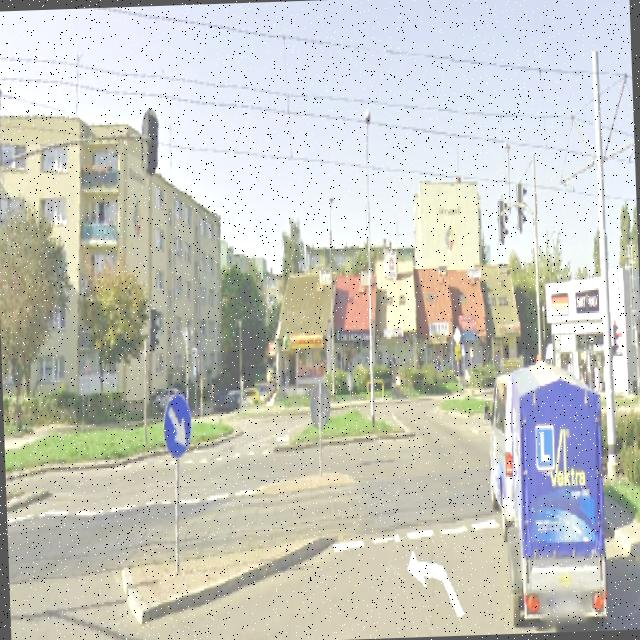Droga z pierwszenstwem: (452, 326, 462, 348)
